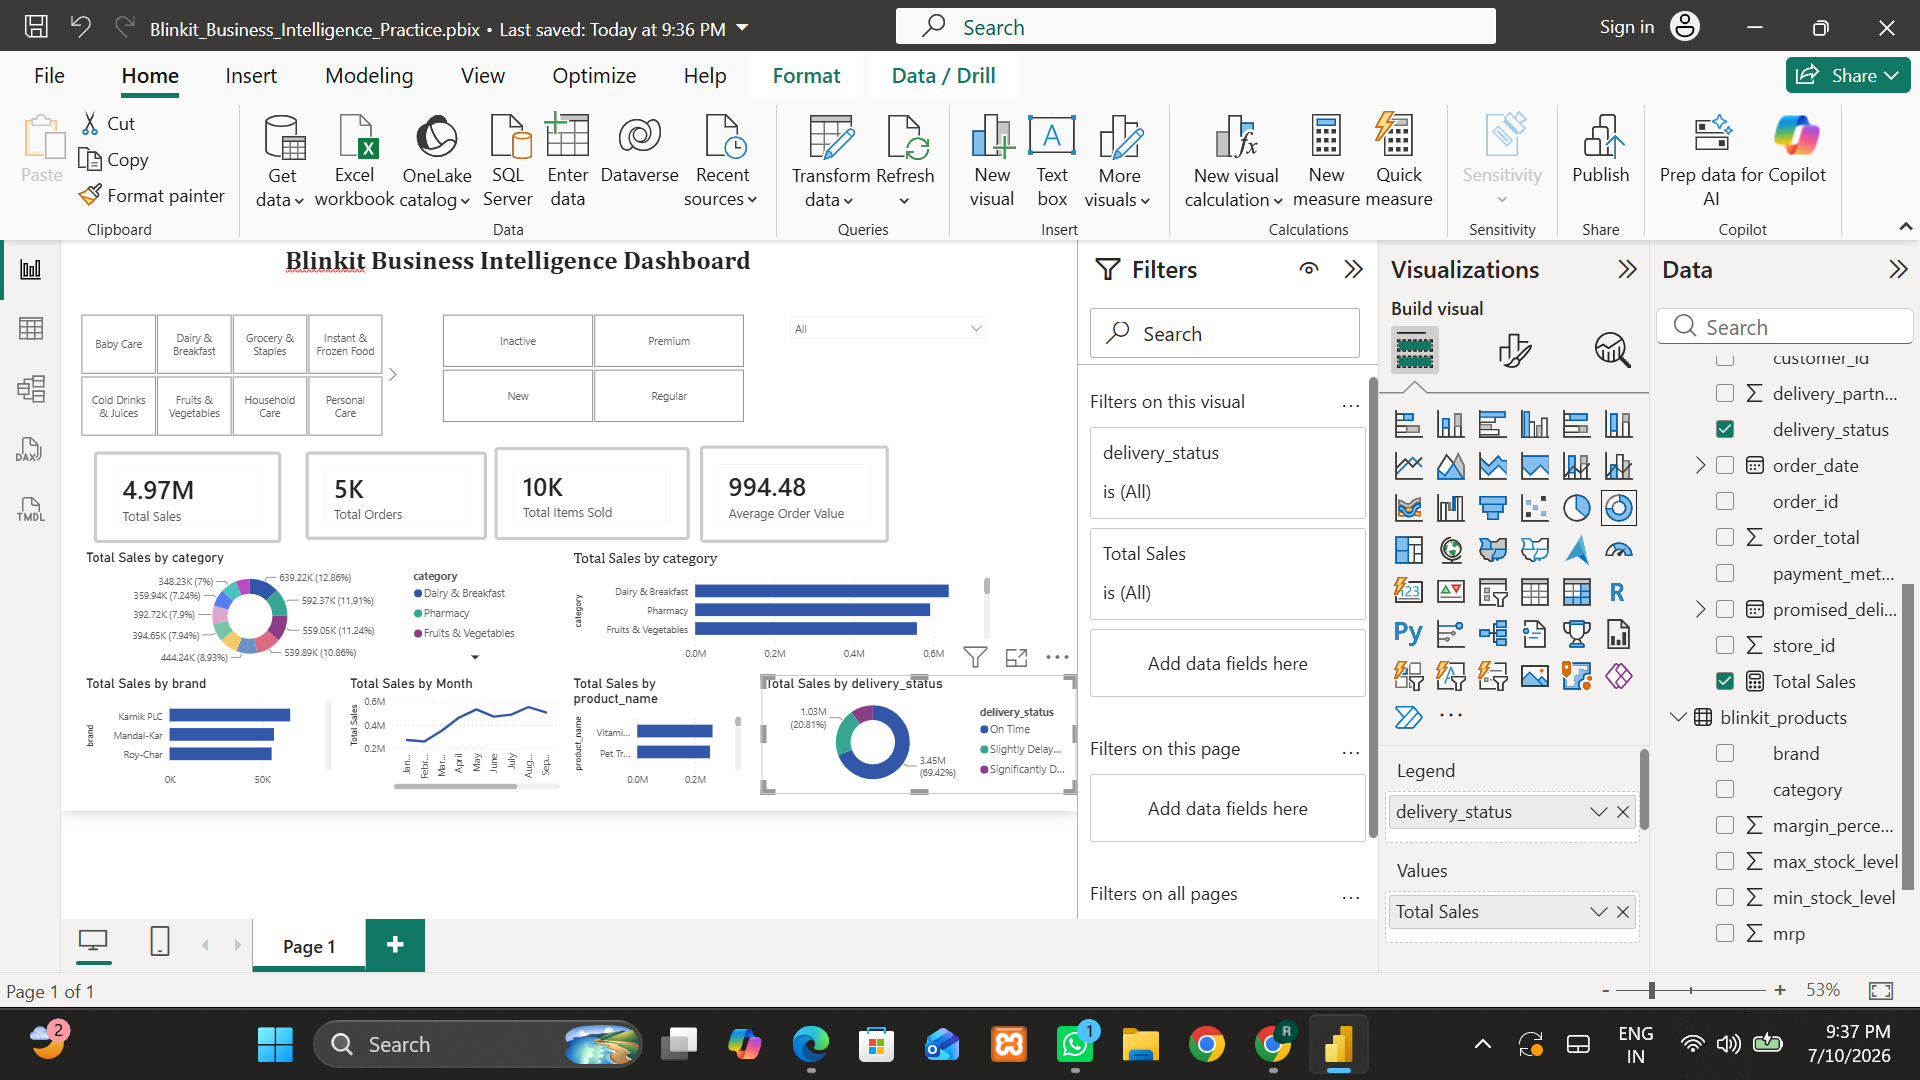

The page's visual inventory and layout, read from the dashboard file:
{"tool":"powerbi","page":{"name":"Page 1","canvas":[1280,720],"ordinal":0},"visuals":[{"type":"textbox","box":[277.8,0,646.3,58.6],"z":0},{"type":"slicer","fields":{"Values":["blinkit_products.category"]},"box":[0,87.6,429,166.3],"z":1000},{"type":"slicer","fields":{"Values":["blinkit_customers.customer_segment"]},"box":[454.5,87.6,429,149.3],"z":2000},{"type":"slicer","fields":{"Values":["blinkit_products.brand"]},"box":[909,86.9,266.5,149.3],"z":3000},{"type":"cardVisual","fields":{"Data":["blinkit_orders.Total Sales"]},"box":[41.6,266.5,236.2,115.3],"z":4000},{"type":"cardVisual","fields":{"Data":["blinkit_order_items.Total Orders"]},"box":[308,266.5,228.7,111.5],"z":5000},{"type":"cardVisual","fields":{"Data":["blinkit_order_items.Total Items Sold"]},"box":[546.1,260.8,245.7,117.2],"z":6000},{"type":"cardVisual","fields":{"Data":["blinkit_order_items.Average Order Value"]},"box":[805,258.9,238.1,122.8],"z":7000},{"type":"donutChart","fields":{"Category":["blinkit_products.category"],"Y":["blinkit_orders.Total Sales"]},"box":[26.5,389.3,576.4,149.3],"z":8000},{"type":"clusteredBarChart","title":" Total Sales by category","fields":{"Category":["blinkit_products.category"],"Y":["blinkit_orders.Total Sales"]},"box":[640.6,389.3,534.8,149.3],"z":8001},{"type":"clusteredBarChart","fields":{"Category":["blinkit_products.brand"],"Y":["blinkit_orders.Total Sales"]},"box":[26.5,548,319.4,149.3],"z":8002},{"type":"lineChart","fields":{"Category":["blinkit_orders.order_date.Variation.Date Hierarchy.Month"],"Y":["blinkit_orders.Total Sales"]},"box":[359.1,548,274,149.3],"z":8003},{"type":"clusteredBarChart","fields":{"Category":["blinkit_products.product_name"],"Y":["blinkit_orders.Total Sales"]},"box":[640.6,548,221.1,149.3],"z":8004},{"type":"donutChart","fields":{"Category":["blinkit_orders.delivery_status"],"Y":["blinkit_orders.Total Sales"]},"box":[882.5,548,396.9,149.3],"z":8005}]}

Visuals, with their boxes on the page's 1280x720 design canvas (x1, y1, x2, y2). These are canvas units, not pixel positions in the 1920x1080 screenshot, which may show the page scaled, cropped or inside an application window:
textbox: x1=278, y1=0, x2=924, y2=59
slicer - blinkit_products.category: x1=0, y1=88, x2=429, y2=254
slicer - blinkit_customers.customer_segment: x1=454, y1=88, x2=884, y2=237
slicer - blinkit_products.brand: x1=909, y1=87, x2=1176, y2=236
cardVisual - blinkit_orders.Total Sales: x1=42, y1=266, x2=278, y2=382
cardVisual - blinkit_order_items.Total Orders: x1=308, y1=266, x2=537, y2=378
cardVisual - blinkit_order_items.Total Items Sold: x1=546, y1=261, x2=792, y2=378
cardVisual - blinkit_order_items.Average Order Value: x1=805, y1=259, x2=1043, y2=382
donutChart - blinkit_products.category x blinkit_orders.Total Sales: x1=26, y1=389, x2=603, y2=539
" Total Sales by category" clusteredBarChart: x1=641, y1=389, x2=1175, y2=539
clusteredBarChart - blinkit_products.brand x blinkit_orders.Total Sales: x1=26, y1=548, x2=346, y2=697
lineChart - blinkit_orders.order_date.Variation.Date Hierarchy.Month x blinkit_orders.Total Sales: x1=359, y1=548, x2=633, y2=697
clusteredBarChart - blinkit_products.product_name x blinkit_orders.Total Sales: x1=641, y1=548, x2=862, y2=697
donutChart - blinkit_orders.delivery_status x blinkit_orders.Total Sales: x1=882, y1=548, x2=1279, y2=697
